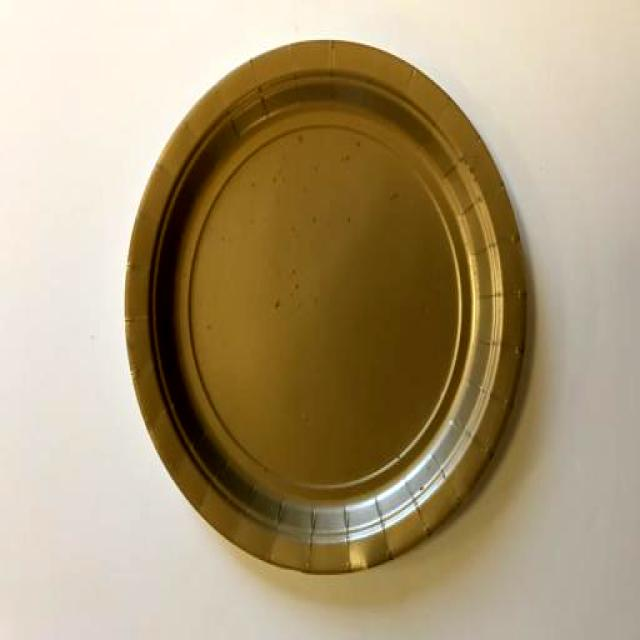Metal: (124, 35, 548, 579)
